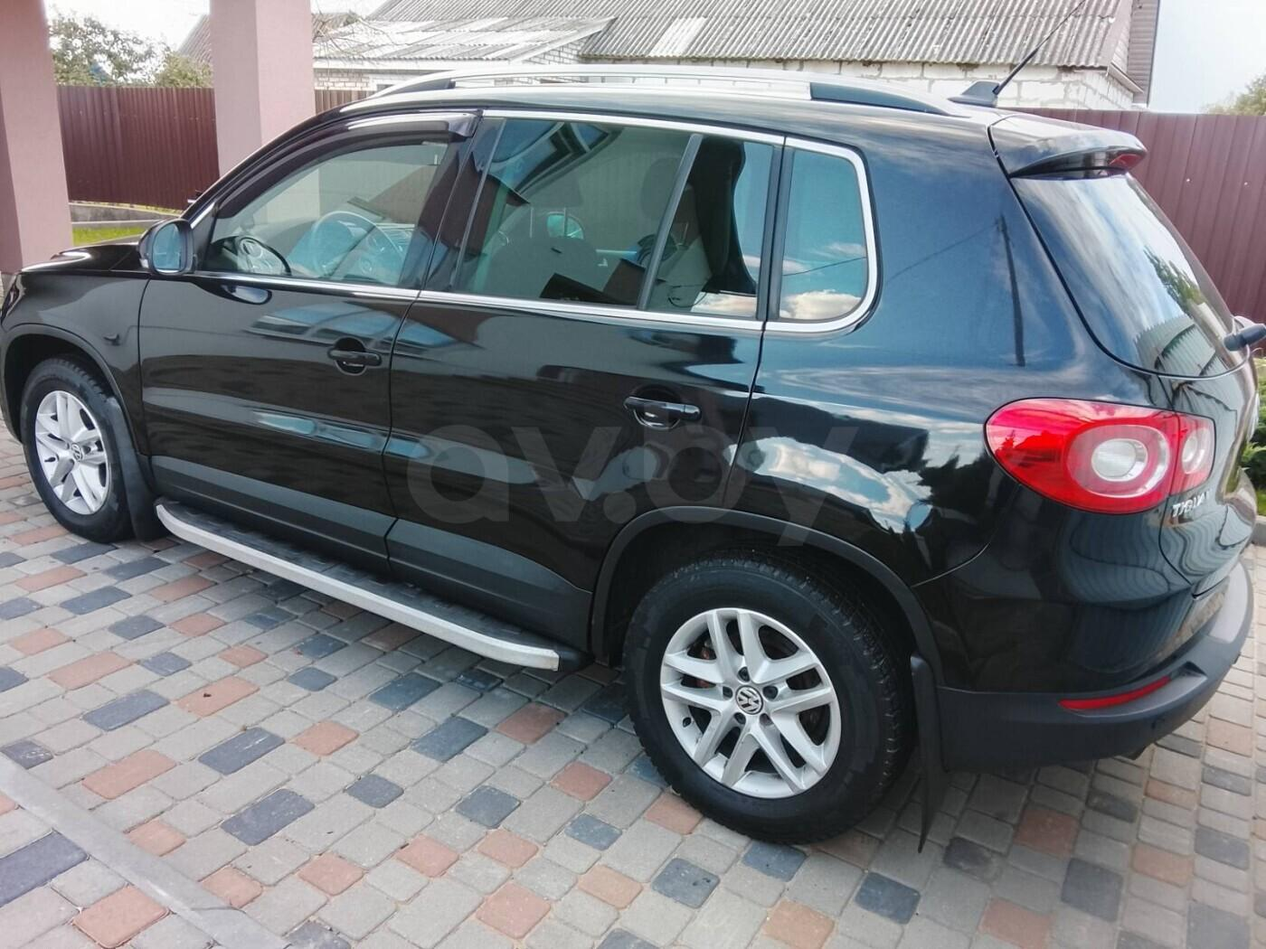Tiguan_2007-2011: (0, 80, 1258, 850)
